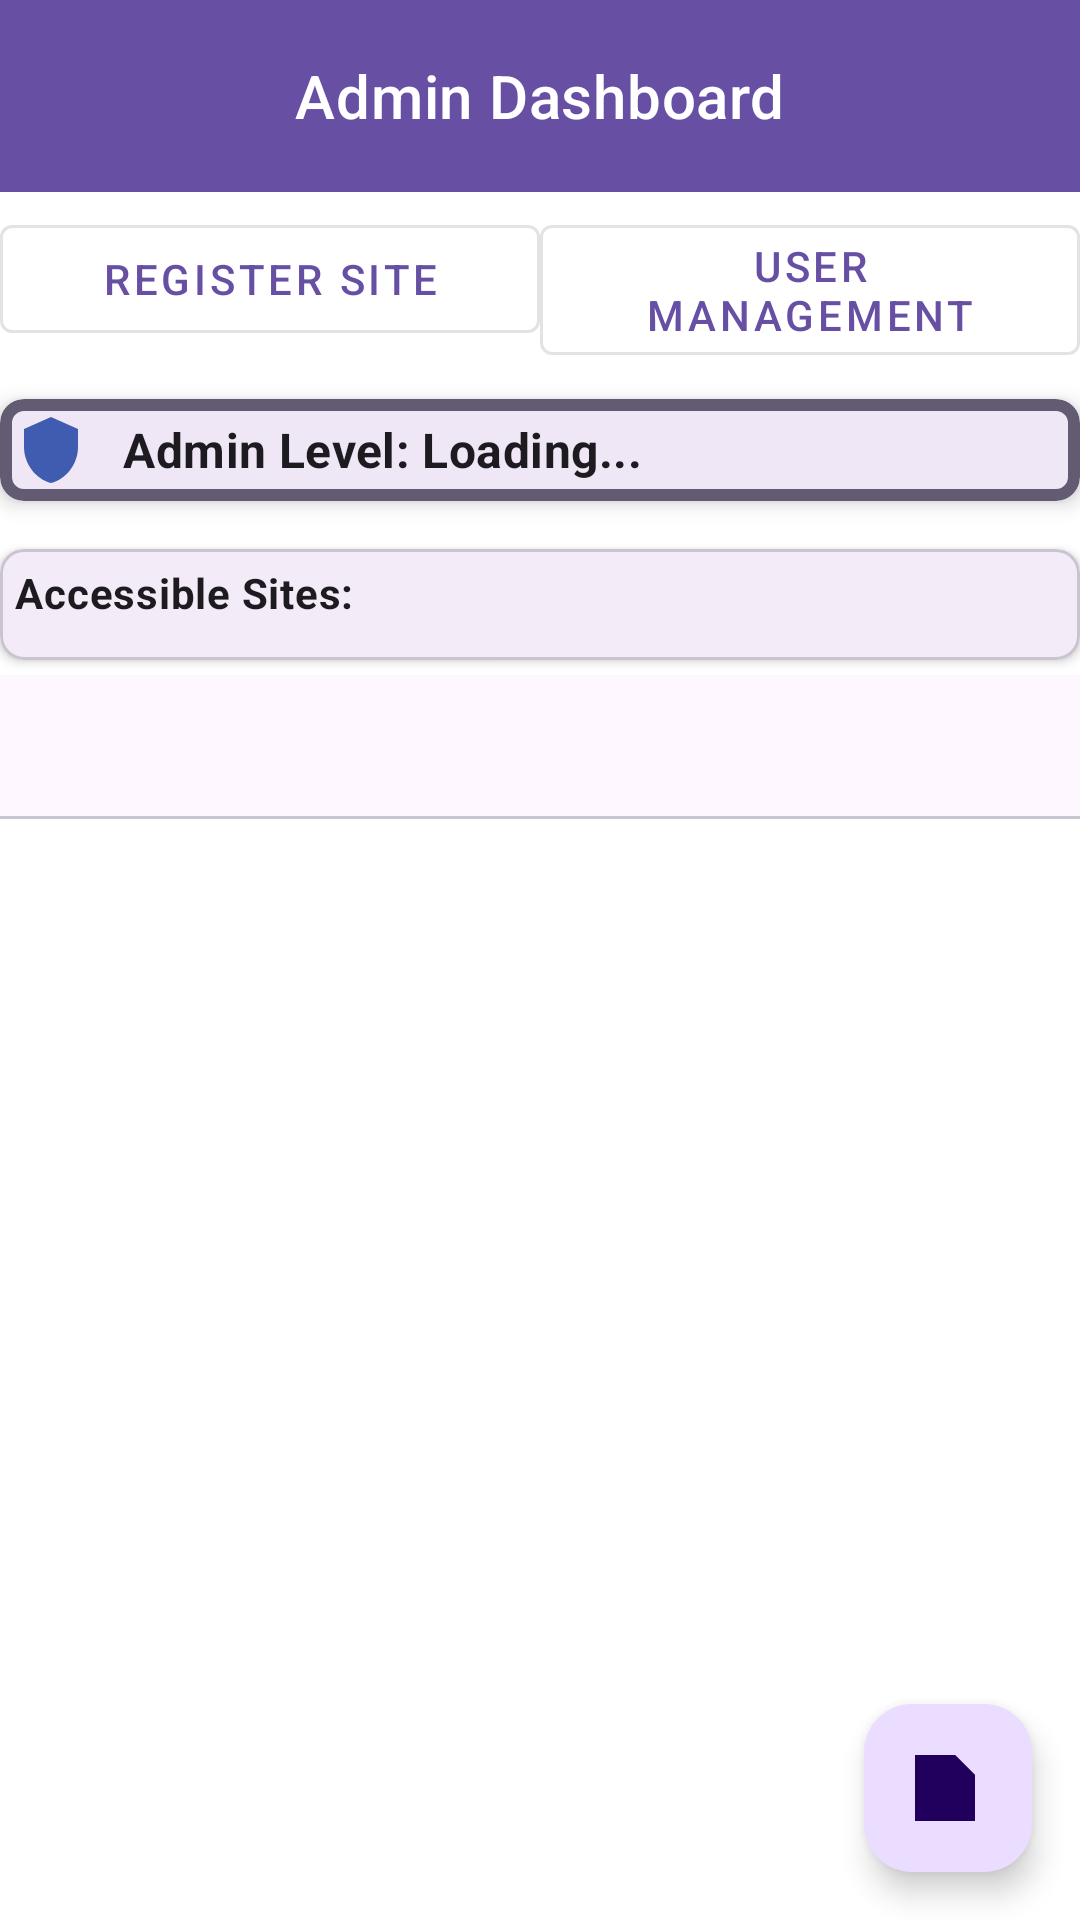

Icon bounding boxes for this 1080w x 1920h phone screenshot, format (x1, y1, x2, y2):
shield: (24, 417, 78, 483)
